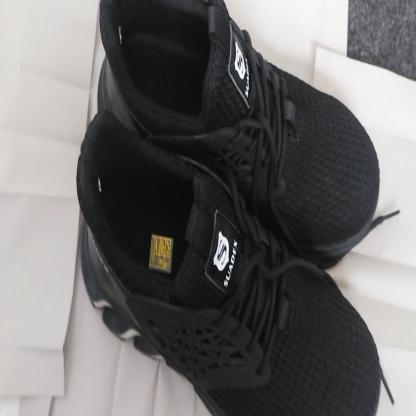safety-shoe: (76, 0, 381, 416)
